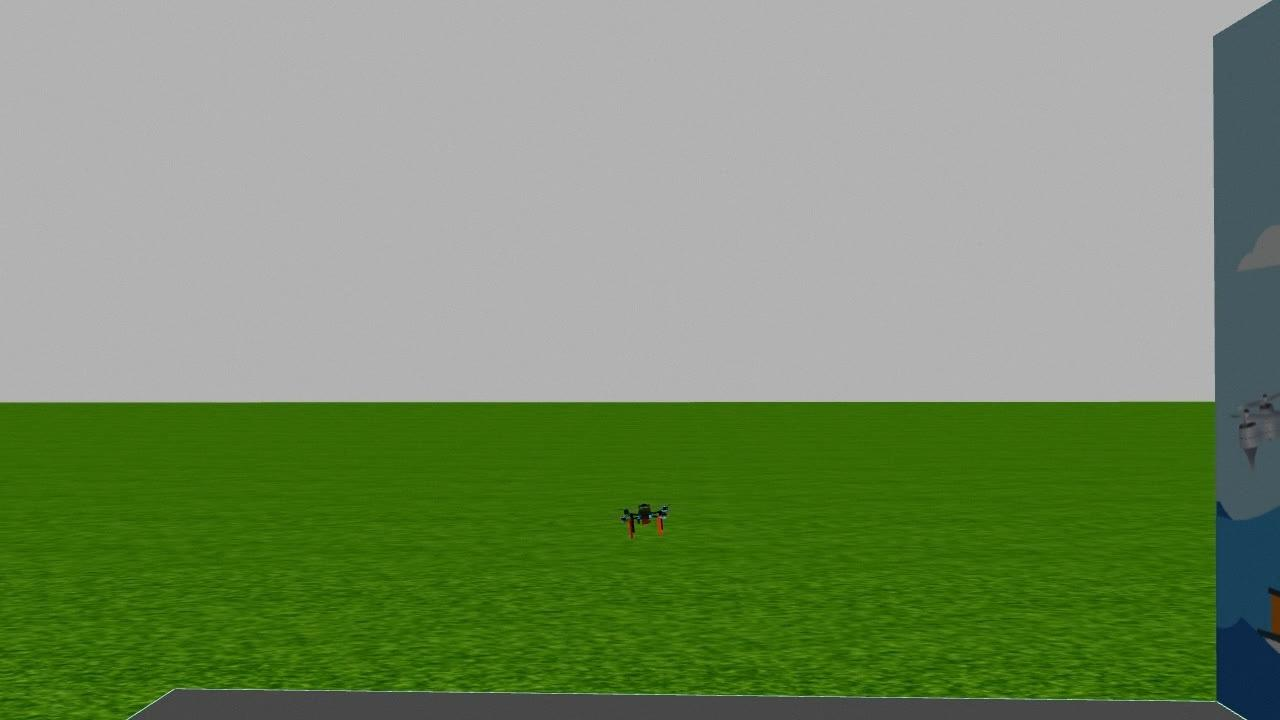UAV: (602, 491, 692, 551)
